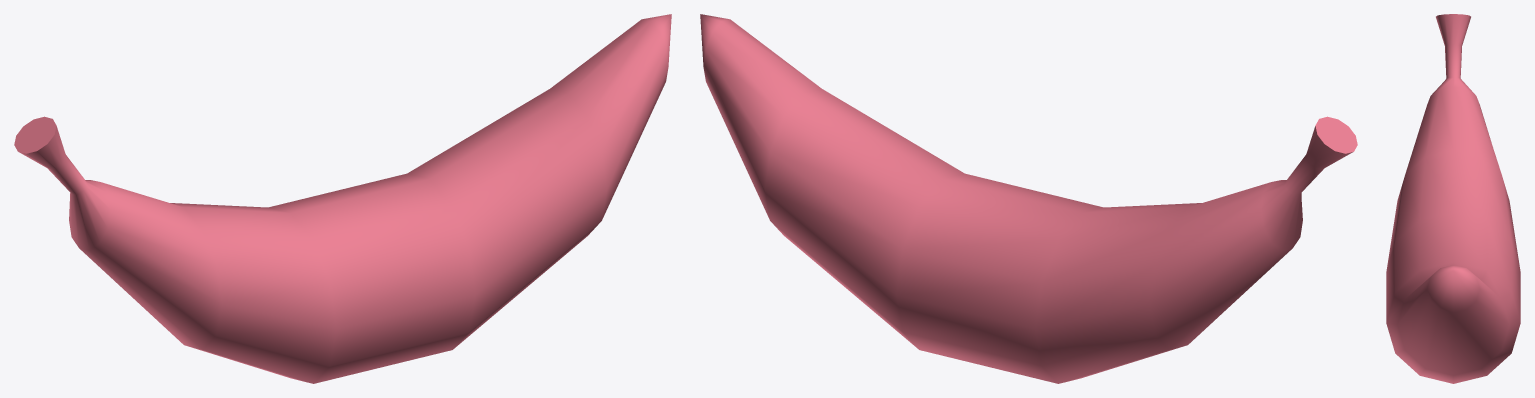
The model's file is Banana.fbx.
3 renders of one model, left to right at view 1: azimuth 30°, elevation 25°; view 2: azimuth 150°, elevation 25°; view 3: azimuth 270°, elevation 25°, orthographic. The views are drawn at different scales.
Visible parts, largest first — view 1: Banana; view 2: Banana; view 3: Banana.
Part boxes in pixels (x1,y1,x2,y2): Banana: (14,14,671,383); Banana: (700,14,1357,383); Banana: (1386,14,1520,383).
Bounding box in the file's own units: 16.56 × 7.68 × 4.
